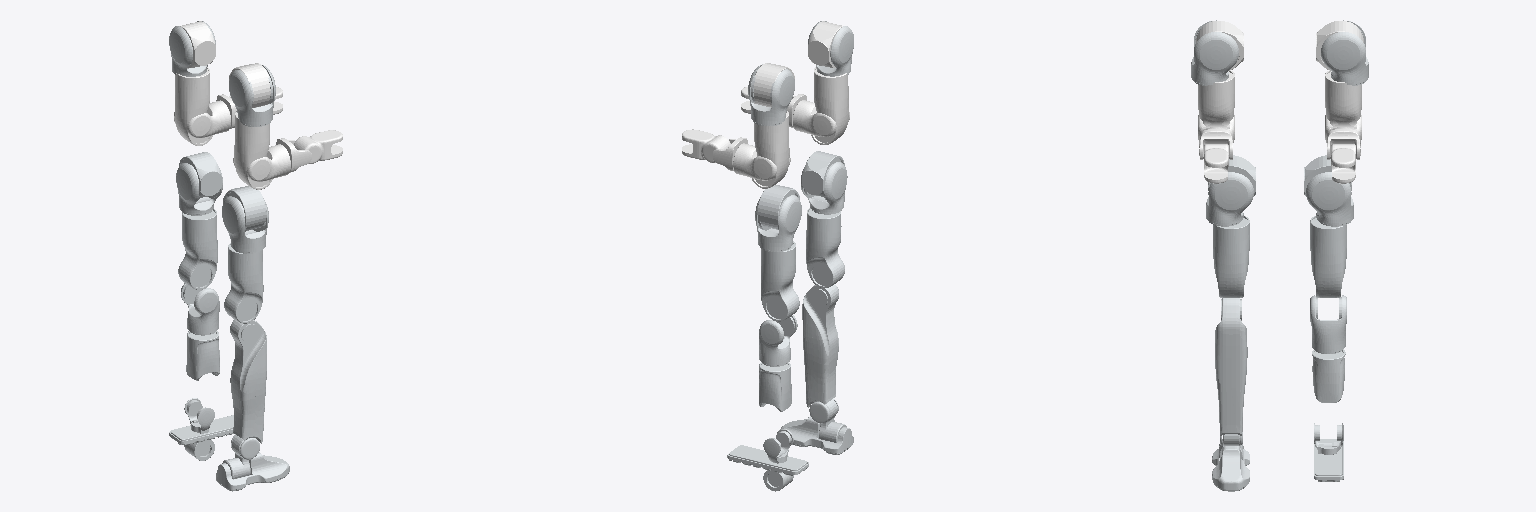
--- Facts derived from the render (not from the file) ---
Views: 3 orthographic renders of the robot side by side, from view 1: azimuth 30°, elevation 25°; view 2: azimuth 150°, elevation 25°; view 3: azimuth 270°, elevation 25°.
Robot: E1 — 29 links, 28 joints (13 revolute, 14 fixed, 1 floating); root link world; default pose: every joint at zero.
Links seen in each view (by area): view 1: right_knee_link, left_knee_link, left_hip_yaw_link, right_hip_yaw_link, left_shoulder_yaw_link, left_ankle_pitch_link, right_shoulder_yaw_link, right_shoulder_roll_link, right_hip_roll_link, right_ankle_roll_link, left_hip_roll_link, left_shoulder_roll_link (+9 smaller); view 2: right_knee_link, left_knee_link, right_hip_yaw_link, left_hip_yaw_link, left_ankle_pitch_link, right_shoulder_yaw_link, left_shoulder_yaw_link, left_shoulder_roll_link, left_hip_roll_link, right_ankle_roll_link, right_hip_roll_link, left_elbow_link (+8 smaller); view 3: right_knee_link, left_knee_link, left_hip_yaw_link, right_hip_yaw_link, left_shoulder_roll_link, right_shoulder_roll_link, left_hip_roll_link, right_hip_roll_link, left_shoulder_yaw_link, right_shoulder_yaw_link, right_ankle_roll_link, left_ankle_pitch_link (+6 smaller).
Boxes of the visible links, bbox=[...] form: right_knee_link: bbox=[230, 319, 266, 443]; left_knee_link: bbox=[181, 283, 219, 380]; left_hip_yaw_link: bbox=[178, 209, 217, 289]; right_hip_yaw_link: bbox=[224, 243, 263, 323]; left_shoulder_yaw_link: bbox=[175, 67, 212, 145]; left_ankle_pitch_link: bbox=[169, 398, 234, 445]; right_shoulder_yaw_link: bbox=[234, 111, 272, 189]; right_shoulder_roll_link: bbox=[229, 65, 275, 126]; right_hip_roll_link: bbox=[222, 196, 268, 253]; right_ankle_roll_link: bbox=[216, 452, 289, 491]; left_hip_roll_link: bbox=[176, 163, 222, 215]; left_shoulder_roll_link: bbox=[169, 21, 215, 76]; right_knee_link: bbox=[802, 284, 838, 407]; left_knee_link: bbox=[759, 315, 797, 411]; right_hip_yaw_link: bbox=[806, 208, 844, 287]; left_hip_yaw_link: bbox=[761, 241, 799, 321]; left_ankle_pitch_link: bbox=[727, 429, 808, 475]; right_shoulder_yaw_link: bbox=[811, 67, 848, 144]; left_shoulder_yaw_link: bbox=[752, 111, 789, 188]; left_shoulder_roll_link: bbox=[748, 64, 794, 125]; left_hip_roll_link: bbox=[755, 195, 801, 251]; right_ankle_roll_link: bbox=[781, 416, 853, 454]; right_hip_roll_link: bbox=[801, 162, 847, 214]; left_elbow_link: bbox=[733, 143, 790, 180]; right_knee_link: bbox=[1215, 298, 1247, 435]; left_knee_link: bbox=[1310, 295, 1346, 402]; left_hip_yaw_link: bbox=[1310, 216, 1346, 297]; right_hip_yaw_link: bbox=[1213, 216, 1249, 297]; left_shoulder_roll_link: bbox=[1321, 20, 1368, 85]; right_shoulder_roll_link: bbox=[1191, 20, 1238, 85]; left_hip_roll_link: bbox=[1306, 172, 1353, 226]; right_hip_roll_link: bbox=[1206, 172, 1253, 226]; left_shoulder_yaw_link: bbox=[1325, 70, 1361, 127]; right_shoulder_yaw_link: bbox=[1198, 70, 1234, 127]; right_ankle_roll_link: bbox=[1212, 446, 1249, 491]; left_ankle_pitch_link: bbox=[1314, 423, 1343, 481].
Size in the robot's own frame: 0.3315 by 0.418 by 1.18 metres.
Meshes: 25 distinct files referenced, 24 mesh visuals loaded (24 binary STL); not drawn: 1 (reference not matched to a file when rendering).

URDF robot description (E1):
<robot name="E1">
  <mujoco>
    <compiler meshdir="./meshes" discardvisual="false" />
  </mujoco>

  <link name="world"></link>
  <joint name="pelvis_link" type="floating">
    <parent link="world" />
    <child link="pelvis_link" />
  </joint>

  <link name="pelvis_link">
    <inertial>
      <origin xyz="0.00134971 0 0.06940332" rpy="0 0 0" />
      <mass value="2.73" />
      <inertia ixx="0.00792451" ixy="-0.00000201" ixz="0.00022435" iyy="0.00661284" iyz="0.00000816" izz="0.00695262" />
    </inertial>
    <visual>
      <origin xyz="0 0 0" rpy="0 0 0" />
      <geometry>
        <mesh filename="meshes/pelvis_link.STL" />
      </geometry>
      <material name="">
        <color rgba="0.752941176470588 0.752941176470588 0.752941176470588 1" />
      </material>
    </visual>
    <collision>
      <origin xyz="0 0 0" rpy="0 0 0" />
      <geometry>
        <mesh filename="meshes/pelvis_link.STL" />
      </geometry>
    </collision>
  </link>
  <link name="left_hip_pitch_link">
    <inertial>
      <origin xyz="0.01929538 0.03084445 -0.00578934" rpy="0 0 0" />
      <mass value="0.145" />
      <inertia ixx="0.00011256" ixy="0.00002214" ixz="-0.00000468" iyy="0.00005128" iyz="-0.00002099" izz="0.00010702" />
    </inertial>
    <visual>
      <origin xyz="0 0 0" rpy="0 0 0" />
      <geometry>
        <mesh filename="meshes/left_hip_pitch_link.STL" />
      </geometry>
      <material name="">
        <color rgba="0.898039215686275 0.917647058823529 0.929411764705882 1" />
      </material>
    </visual>
    <!-- <collision>
      <origin xyz="0 0 0" rpy="0 0 0" />
      <geometry>
        <mesh filename="meshes/left_hip_pitch_link.STL" />
      </geometry>
    </collision> -->
  </link>
  <joint name="left_hip_pitch_joint" type="revolute">
    <origin xyz="0 0.057 0.065" rpy="0 0 0" />
    <parent link="pelvis_link" />
    <child link="left_hip_pitch_link" />
    <axis xyz="0 1 0" />
    <limit lower="-2.7053" upper="2.7053" effort="60" velocity="20.42" />
  </joint>
  <link name="left_hip_roll_link">
    <inertial>
      <origin xyz="-0.00147244 0.00041537 -0.03721449" rpy="0 0 0" />
      <mass value="1.39" />
      <inertia ixx="0.002567" ixy="0.00001559" ixz="-0.00006696" iyy="0.00235625" iyz="0.00000301" izz="0.00145182" />
    </inertial>
    <visual>
      <origin xyz="0 0 0" rpy="0 0 0" />
      <geometry>
        <mesh filename="meshes/left_hip_roll_link.STL" />
      </geometry>
      <material name="">
        <color rgba="0.898039215686275 0.917647058823529 0.929411764705882 1" />
      </material>
    </visual>
<!--    <collision>-->
<!--      <origin xyz="0 0 0" rpy="0 0 0" />-->
<!--      <geometry>-->
<!--        <mesh filename="meshes/left_hip_roll_link.STL" />-->
<!--      </geometry>-->
<!--    </collision>-->
  </link>
  <joint name="left_hip_roll_joint" type="revolute">
    <origin xyz="0 0.058 -0.015" rpy="0 0 0" />
    <parent link="left_hip_pitch_link" />
    <child link="left_hip_roll_link" />
    <axis xyz="1 0 0" />
    <limit lower="-0.5236" upper="3.1416" effort="36" velocity="50.265" />
  </joint>
  <link name="left_hip_yaw_link">
    <inertial>
      <origin xyz="0.00070152 0.00025365 -0.12614663" rpy="0 0 0" />
      <mass value="2.39" />
      <inertia ixx="0.01611989" ixy="-0.00000019" ixz="-0.00028259" iyy="0.01646544" iyz="0.00024296" izz="0.00278263" />
    </inertial>
    <visual>
      <origin xyz="0 0 0" rpy="0 0 0" />
      <geometry>
        <mesh filename="meshes/left_hip_yaw_link.STL" />
      </geometry>
      <material name="">
        <color rgba="0.898039215686275 0.917647058823529 0.929411764705882 1" />
      </material>
    </visual>
    <collision>
      <origin xyz="0 0 0" rpy="0 0 0" />
      <geometry>
        <mesh filename="meshes/left_hip_yaw_link.STL" />
      </geometry>
    </collision>
  </link>
  <joint name="left_hip_yaw_joint" type="revolute">
    <origin xyz="0 0 -0.092" rpy="0 0 0" />
    <parent link="left_hip_roll_link" />
    <child link="left_hip_yaw_link" />
    <axis xyz="0 0 1" />
    <limit lower="-2.0944" upper="2.0944" effort="36" velocity="50.265" />
  </joint>
  <link name="left_knee_link">
    <inertial>
      <origin xyz="0.00414084 -0.00040825 -0.13326938" rpy="0 0 0" />
      <mass value="0.785" />
      <inertia ixx="0.01156593" ixy="0.00000094" ixz="-0.00002291" iyy="0.01158947" iyz="0.00008706" izz="0.00032382" />
    </inertial>
    <visual>
      <origin xyz="0 0 0" rpy="0 0 0" />
      <geometry>
        <mesh filename="meshes/left_knee_link.STL" />
      </geometry>
      <material name="">
        <color rgba="0.898039215686275 0.917647058823529 0.929411764705882 1" />
      </material>
    </visual>
<!--    <collision>-->
<!--      <origin xyz="0 0 0" rpy="0 0 0" />-->
<!--      <geometry>-->
<!--        <mesh filename="meshes/left_knee_link.STL" />-->
<!--      </geometry>-->
<!--    </collision>-->
  </link>
  <joint name="left_knee_joint" type="revolute">
    <origin xyz="0 0 -0.228" rpy="0 0 0" />
    <parent link="left_hip_yaw_link" />
    <child link="left_knee_link" />
    <axis xyz="0 1 0" />
    <limit lower="0" upper="2.2689" effort="36" velocity="50.265" />
  </joint>
  <link name="left_ankle_pitch_link">
    <inertial>
      <origin xyz="-0.01426716 -0.00101925 -0.04298429" rpy="0 0 0" />
      <mass value="0.597" />
      <inertia ixx="0.00065314" ixy="-0.00001099" ixz="0.00013946" iyy="0.00072568" iyz="-0.00003869" izz="0.00044755" />
    </inertial>
    <visual>
      <origin xyz="0 0 0" rpy="0 0 0" />
      <geometry>
        <mesh filename="meshes/left_ankle_pitch_link.STL" />
      </geometry>
      <material name="">
        <color rgba="0.898039215686275 0.917647058823529 0.929411764705882 1" />
      </material>
    </visual>
    <collision>
      <origin xyz="0 0 0" rpy="0 0 0" />
      <geometry>
        <mesh filename="meshes/left_ankle_pitch_link.STL" />
      </geometry>
    </collision>
  </link>
  <joint name="left_ankle_pitch_joint" type="revolute">
    <origin xyz="0 0 -0.32" rpy="0 0 0" />
    <parent link="left_knee_link" />
    <child link="left_ankle_pitch_link" />
    <axis xyz="0 1 0" />
    <limit lower="-0.5236" upper="0.5236" effort="36" velocity="50.265" />
  </joint>
  <link name="left_ankle_roll_link">
    <inertial>
      <origin xyz="0.01152056 0 -0.02947055" rpy="0 0 0" />
      <mass value="0.294" />
      <inertia ixx="0.0001508" ixy="0" ixz="-0.00002398" iyy="0.00074194" iyz="0" izz="0.00079391" />
    </inertial>
    <visual>
      <origin xyz="0 0 0" rpy="0 0 0" />
      <geometry>
        <mesh filename="meshes/left_ankle_roll_link.STL" />
      </geometry>
      <material name="">
        <color rgba="0.898039215686275 0.917647058823529 0.929411764705882 1" />
      </material>
    </visual>
    <collision>
      <origin xyz="0 0 0" rpy="0 0 0" />
      <geometry>
        <mesh filename="meshes/left_ankle_roll_link.STL" />
      </geometry>
    </collision>
  </link>
  <joint name="left_ankle_roll_joint" type="revolute">
    <origin xyz="0 0 -0.06" rpy="0 0 0" />
    <parent link="left_ankle_pitch_link" />
    <child link="left_ankle_roll_link" />
    <axis xyz="1 0 0" />
    <limit lower="-1.5708" upper="1.5708" effort="14" velocity="32.987" />
  </joint>
  <link name="right_hip_pitch_link">
    <inertial>
      <origin xyz="0.01929538 -0.03084445 -0.00578934" rpy="0 0 0" />
      <mass value="0.145" />
      <inertia ixx="0.00011256" ixy="-0.00002214" ixz="-0.00000468" iyy="0.00005128" iyz="0.00002099" izz="0.00010702" />
    </inertial>
    <visual>
      <origin xyz="0 0 0" rpy="0 0 0" />
      <geometry>
        <mesh filename="meshes/right_hip_pitch_link.STL" />
      </geometry>
      <material name="">
        <color rgba="0.898039215686275 0.917647058823529 0.929411764705882 1" />
      </material>
    </visual>
    <!-- <collision>
      <origin xyz="0 0 0" rpy="0 0 0" />
      <geometry>
        <mesh filename="meshes/right_hip_pitch_link.STL" />
      </geometry>
    </collision> -->
  </link>
  <joint name="right_hip_pitch_joint" type="revolute">
    <origin xyz="0 -0.057 0.065" rpy="0 0 0" />
    <parent link="pelvis_link" />
    <child link="right_hip_pitch_link" />
    <axis xyz="0 1 0" />
    <limit lower="-2.7053" upper="2.7053" effort="60" velocity="20.42" />
  </joint>
  <link name="right_hip_roll_link">
    <inertial>
      <origin xyz="-0.00147237 -0.00041532 -0.03721455" rpy="0 0 0" />
      <mass value="1.39" />
      <inertia ixx="0.00256699" ixy="-0.00001559" ixz="-0.00006696" iyy="0.00235625" iyz="-0.00000302" izz="0.00145182" />
    </inertial>
    <visual>
      <origin xyz="0 0 0" rpy="0 0 0" />
      <geometry>
        <mesh filename="meshes/right_hip_roll_link.STL" />
      </geometry>
      <material name="">
        <color rgba="0.898039215686275 0.917647058823529 0.929411764705882 1" />
      </material>
    </visual>
<!--    <collision>-->
<!--      <origin xyz="0 0 0" rpy="0 0 0" />-->
<!--      <geometry>-->
<!--        <mesh filename="meshes/right_hip_roll_link.STL" />-->
<!--      </geometry>-->
<!--    </collision>-->
  </link>
  <joint name="right_hip_roll_joint" type="revolute">
    <origin xyz="0 -0.058 -0.015" rpy="0 0 0" />
    <parent link="right_hip_pitch_link" />
    <child link="right_hip_roll_link" />
    <axis xyz="1 0 0" />
    <limit lower="-2.618" upper="0.1745" effort="36" velocity="50.265" />
  </joint>
  <link name="right_hip_yaw_link">
    <inertial>
      <origin xyz="0.00070152 -0.00025365 -0.12614688" rpy="0 0 0" />
      <mass value="2.39" />
      <inertia ixx="0.01611990" ixy="0.00000018" ixz="-0.00028259" iyy="0.01646544" iyz="-0.00024296" izz="0.00278262" />
    </inertial>
    <visual>
      <origin xyz="0 0 0" rpy="0 0 0" />
      <geometry>
        <mesh filename="meshes/right_hip_yaw_link.STL" />
      </geometry>
      <material name="">
        <color rgba="0.898039215686275 0.917647058823529 0.929411764705882 1" />
      </material>
    </visual>
    <collision>
      <origin xyz="0 0 0" rpy="0 0 0" />
      <geometry>
        <mesh filename="meshes/right_hip_yaw_link.STL" />
      </geometry>
    </collision>
  </link>
  <joint name="right_hip_yaw_joint" type="revolute">
    <origin xyz="0 0 -0.092" rpy="0 0 0" />
    <parent link="right_hip_roll_link" />
    <child link="right_hip_yaw_link" />
    <axis xyz="0 0 1" />
    <limit lower="-2.0944" upper="2.0944" effort="36" velocity="50.265" />
  </joint>
  <link name="right_knee_link">
    <inertial>
      <origin xyz="0.00414085 0.00040825 -0.13326949" rpy="0 0 0" />
      <mass value="0.785" />
      <inertia ixx="0.01156594" ixy="-0.00000094" ixz="-0.00002291" iyy="0.01158948" iyz="-0.00008706" izz="0.00032382" />
    </inertial>
    <visual>
      <origin xyz="0 0 0" rpy="0 0 0" />
      <geometry>
        <mesh filename="meshes/right_knee_link.STL" />
      </geometry>
      <material name="">
        <color rgba="0.898039215686275 0.917647058823529 0.929411764705882 1" />
      </material>
    </visual>
<!--    <collision>-->
<!--      <origin xyz="0 0 0" rpy="0 0 0" />-->
<!--      <geometry>-->
<!--        <mesh filename="meshes/right_knee_link.STL" />-->
<!--      </geometry>-->
<!--    </collision>-->
  </link>
  <joint name="right_knee_joint" type="revolute">
    <origin xyz="0 0 -0.228" rpy="0 0 0" />
    <parent link="right_hip_yaw_link" />
    <child link="right_knee_link" />
    <axis xyz="0 1 0" />
    <limit lower="0" upper="2.2689" effort="36" velocity="50.265" />
  </joint>
  <link name="right_ankle_pitch_link">
    <inertial>
      <origin xyz="-0.01426715 0.00101913 -0.0429843" rpy="0 0 0" />
      <mass value="0.597" />
      <inertia ixx="0.00065314" ixy="0.00001099" ixz="0.00013946" iyy="0.00072569" iyz="0.00003869" izz="0.00044755" />
    </inertial>
    <visual>
      <origin xyz="0 0 0" rpy="0 0 0" />
      <geometry>
        <mesh filename="meshes/right_ankle_pitch_link.STL" />
      </geometry>
      <material name="">
        <color rgba="0.898039215686275 0.917647058823529 0.929411764705882 1" />
      </material>
    </visual>
    <collision>
      <origin xyz="0 0 0" rpy="0 0 0" />
      <geometry>
        <mesh filename="meshes/right_ankle_pitch_link.STL" />
      </geometry>
    </collision>
  </link>
  <joint name="right_ankle_pitch_joint" type="revolute">
    <origin xyz="0 0 -0.32" rpy="0 0 0" />
    <parent link="right_knee_link" />
    <child link="right_ankle_pitch_link" />
    <axis xyz="0 1 0" />
    <limit lower="-0.5236" upper="0.5236" effort="36" velocity="10.47" />
  </joint>
  <link name="right_ankle_roll_link">
    <inertial>
      <origin xyz="0.01152056 0 -0.02947055" rpy="0 0 0" />
      <mass value="0.294" />
      <inertia ixx="0.0001508" ixy="0" ixz="-0.00002398" iyy="0.00074194" iyz="0" izz="0.00079391" />
    </inertial>
    <visual>
      <origin xyz="0 0 0" rpy="0 0 0" />
      <geometry>
        <mesh filename="meshes/right_ankle_roll_link.STL" />
      </geometry>
      <material name="">
        <color rgba="0.898039215686275 0.917647058823529 0.929411764705882 1" />
      </material>
    </visual>
    <collision>
      <origin xyz="0 0 0" rpy="0 0 0" />
      <geometry>
        <mesh filename="meshes/right_ankle_roll_link.STL" />
      </geometry>
    </collision>
  </link>
  <joint name="right_ankle_roll_joint" type="revolute">
    <origin xyz="0 0 -0.06" rpy="0 0 0" />
    <parent link="right_ankle_pitch_link" />
    <child link="right_ankle_roll_link" />
    <axis xyz="1 0 0" />
    <limit lower="-1.5708" upper="1.5708" effort="14" velocity="27.28" />
  </joint>
  <!-- <link name="waist_yaw_link">
    <inertial>
      <origin xyz="0.00002019 0.00005783 0.02376167" rpy="0 0 0" />
      <mass value="0.8" />
      <inertia ixx="0.00077312" ixy="-0.00000055" ixz="-0.00000523" iyy="0.00080756" iyz="0.00000096" izz="0.00106847" />
    </inertial>
    <visual>
      <origin xyz="0 0 0" rpy="0 0 0" />
      <geometry>
        <mesh filename="meshes/waist_yaw_link.STL" />
      </geometry>
      <material name="">
        <color rgba="0.752941176470588 0.752941176470588 0.752941176470588 1" />
      </material>
    </visual>
    <collision>
      <origin xyz="0 0 0" rpy="0 0 0" />
      <geometry>
        <mesh filename="meshes/waist_yaw_link.STL" />
      </geometry>
    </collision>
  </link> -->
  <!-- <joint name="waist_yaw_joint" type="revolute">
    <origin xyz="0 0 0.135" rpy="0 0 0" />
    <parent link="pelvis_link" />
    <child link="waist_yaw_link" />
    <axis xyz="0 0 1" />
    <limit lower="-1.5708" upper="1.5708" effort="60" velocity="50.265" />
  </joint> -->
  <link name="torso_link">
    <inertial>
      <origin xyz="-0.0002482 -0.00192616 0.2017273" rpy="0 0 0" />
      <mass value="6.9" />
      <inertia ixx="0.05533478" ixy="0.00020066" ixz="0.00006865" iyy="0.04385891" iyz="0.00036014" izz="0.0199517" />
    </inertial>
    <!-- <visual>
      <origin xyz="0 0 0" rpy="0 0 0" />
      <geometry>
        <mesh filename="meshes/torso_link.STL" />
      </geometry>
      <material name="">
        <color rgba="0.752941176470588 0.752941176470588 0.752941176470588 1" />
      </material>
    </visual>
    <collision>
      <origin xyz="0 0 0" rpy="0 0 0" />
      <geometry>
        <mesh filename="meshes/torso_link.STL" />
      </geometry>
    </collision> -->
    <collision>
      <origin xyz="0 0 0.18" rpy="0 0 0"/>
      <geometry>
          <box size="0.11 0.13 0.3"/>
      </geometry>
    </collision>
  </link>
  <!-- <joint name="torso_joint" type="fixed">
    <origin xyz="0 0 0" rpy="0 0 0" />
    <parent link="waist_yaw_link" />
    <child link="torso_link" />
    <axis xyz="0 0 0" />
  </joint> -->
  <joint name="waist_yaw_joint" type="revolute">
    <origin xyz="0 0 0.135" rpy="0 0 0" />
    <parent link="pelvis_link" />
    <child link="torso_link" />
    <axis xyz="0 0 1" />
    <limit lower="-1.5708" upper="1.5708" effort="60" velocity="20.42" />
  </joint>
  <link name="left_shoulder_pitch_link">
    <inertial>
      <origin xyz="-0.0029314 0.04236878 0.00000234" rpy="0 0 0" />
      <mass value="0.86" />
      <inertia ixx="0.00102909" ixy="-0.00002678" ixz="-0.00000002" iyy="0.00061621" iyz="-0.00000002" izz="0.00086617" />
    </inertial>
    <visual>
      <origin xyz="0 0 0" rpy="0 0 0" />
      <geometry>
        <mesh filename="meshes/left_shoulder_pitch_link.STL" />
      </geometry>
      <material name="">
        <color rgba="1 1 1 1" />
      </material>
    </visual>
    <collision>
      <origin xyz="0 0 0" rpy="0 0 0" />
      <geometry>
        <mesh filename="meshes/left_shoulder_pitch_link.STL" />
      </geometry>
    </collision>
  </link>
  <joint name="left_shoulder_pitch_joint" type="fixed">
    <origin xyz="0 0.098 0.28" rpy="0 0 0" />
    <parent link="torso_link" />
    <child link="left_shoulder_pitch_link" />
    <axis xyz="0 1 0" />
    <limit lower="0" upper="0" effort="36" velocity="10.47" />
  </joint>
  <link name="left_shoulder_roll_link">
    <inertial>
      <origin xyz="0.01778196 -0.00016662 -0.02897185" rpy="0 0 0" />
      <mass value="0.1" />
      <inertia ixx="0.00006297" ixy="0.00000007" ixz="0.0000124" iyy="0.00006244" iyz="0.0000002" izz="0.00002735" />
    </inertial>
    <visual>
      <origin xyz="0 0 0" rpy="0 0 0" />
      <geometry>
        <mesh filename="meshes/left_shoulder_roll_link.STL" />
      </geometry>
      <material name="">
        <color rgba="0.898039215686275 0.917647058823529 0.929411764705882 1" />
      </material>
    </visual>
    <collision>
      <origin xyz="0 0 0" rpy="0 0 0" />
      <geometry>
        <mesh filename="meshes/left_shoulder_roll_link.STL" />
      </geometry>
    </collision>
  </link>
  <joint name="left_shoulder_roll_joint" type="fixed">
    <origin xyz="0 0.052 0" rpy="0 0 0" />
    <parent link="left_shoulder_pitch_link" />
    <child link="left_shoulder_roll_link" />
    <axis xyz="1 0 0" />
    <limit lower="0" upper="0" effort="36" velocity="10.47" />
  </joint>
  <link name="left_shoulder_yaw_link">
    <inertial>
      <origin xyz="-0.00317011 -0.0005976 -0.07021454" rpy="0 0 0" />
      <mass value="1.55" />
      <inertia ixx="0.00649411" ixy="0.00005943" ixz="0.00025794" iyy="0.00640237" iyz="-0.00001492" izz="0.0014487" />
    </inertial>
    <visual>
      <origin xyz="0 0 0" rpy="0 0 0" />
      <geometry>
        <mesh filename="meshes/left_shoulder_yaw_link.STL" />
      </geometry>
      <material name="">
        <color rgba="1 1 1 1" />
      </material>
    </visual>
    <collision>
      <origin xyz="0 0 0" rpy="0 0 0" />
      <geometry>
        <mesh filename="meshes/left_shoulder_yaw_link.STL" />
      </geometry>
    </collision>
  </link>
  <joint name="left_shoulder_yaw_joint" type="fixed">
    <origin xyz="0 0 -0.077" rpy="0 0 0" />
    <parent link="left_shoulder_roll_link" />
    <child link="left_shoulder_yaw_link" />
    <axis xyz="0 0 1" />
    <limit lower="0" upper="0" effort="14" velocity="27.28" />
  </joint>
  <link name="left_elbow_link">
    <inertial>
      <origin xyz="0.08296731 -0.00030352 -0.00120015" rpy="0 0 0" />
      <mass value="0.51" />
      <inertia ixx="0.00044171" ixy="0.00001498" ixz="0.0000316" iyy="0.0006862" iyz="-0.00000023" izz="0.00080540" />
    </inertial>
    <visual>
      <origin xyz="0 0 0" rpy="0 0 0" />
      <geometry>
        <mesh filename="meshes/left_elbow_link.STL" />
      </geometry>
      <material name="">
        <color rgba="1 1 1 1" />
      </material>
    </visual>
    <collision>
      <origin xyz="0 0 0" rpy="0 0 0" />
      <geometry>
        <mesh filename="meshes/left_elbow_link.STL" />
      </geometry>
    </collision>
  </link>
  <joint name="left_elbow_joint" type="fixed">
    <origin xyz="0 0 -0.133" rpy="0 0 0" />
    <parent link="left_shoulder_yaw_link" />
    <child link="left_elbow_link" />
    <axis xyz="0 1 0" />
    <limit lower="0" upper="0" effort="36" velocity="10.47" />
  </joint>
  <link name="left_wrist_roll_link">
    <inertial>
      <origin xyz="0.05840973 -0.00030711 -0.00006564" rpy="0 0 0" />
      <mass value="0.38" />
      <inertia ixx="0.00024702" ixy="0.00000162" ixz="-0.00000048" iyy="0.00027052" iyz="-0.00000287" izz="0.00035336" />
    </inertial>
    <visual>
      <origin xyz="0 0 0" rpy="0 0 0" />
      <geometry>
        <mesh filename="meshes/left_wrist_roll_link.STL" />
      </geometry>
      <material name="">
        <color rgba="1 1 1 1" />
      </material>
    </visual>
    <collision>
      <origin xyz="0 0 0" rpy="0 0 0" />
      <geometry>
        <mesh filename="meshes/left_wrist_roll_link.STL" />
      </geometry>
    </collision>
  </link>
  <joint name="left_wrist_roll_joint" type="fixed">
    <origin xyz="0.1 0 0" rpy="0 0 0" />
    <parent link="left_elbow_link" />
    <child link="left_wrist_roll_link" />
    <axis xyz="1 0 0" />
    <limit lower="0" upper="0" effort="14" velocity="27.28" />
  </joint>
  <link name="left_wrist_pitch_link">
    <inertial>
      <origin xyz="0.06200956 -0.00270472 0.00081678" rpy="0 0 0" />
      <mass value="0.35" />
      <inertia ixx="0.0001926" ixy="0.00001188" ixz="-0.00002839" iyy="0.00022487" iyz="-0.00000555" izz="0.00022890" />
    </inertial>
    <visual>
      <origin xyz="0 0 0" rpy="0 0 0" />
      <geometry>
        <mesh filename="meshes/left_wrist_pitch_link.STL" />
      </geometry>
      <material name="">
        <color rgba="1 1 1 1" />
      </material>
    </visual>
    <collision>
      <origin xyz="0 0 0" rpy="0 0 0" />
      <geometry>
        <mesh filename="meshes/left_wrist_pitch_link.STL" />
      </geometry>
    </collision>
  </link>
  <joint name="left_wrist_pitch_joint" type="fixed">
    <origin xyz="0.06 0 0" rpy="0 0 0" />
    <parent link="left_wrist_roll_link" />
    <child link="left_wrist_pitch_link" />
    <axis xyz="0 1 0" />
    <limit lower="0" upper="0" effort="14" velocity="27.28" />
  </joint>
  <link name="left_wrist_yaw_link">
    <collision>
      <origin xyz="0.06 0 0" rpy="0 1.5708 0"/>
      <geometry>
          <cylinder radius="0.026" length="0.02"/>
      </geometry>
    </collision>
  </link>
  <joint name="left_wrist_yaw_joint" type="fixed">
    <origin xyz="0.06 0 0" rpy="0 0 0" />
    <parent link="left_wrist_pitch_link" />
    <child link="left_wrist_yaw_link" />
    <axis xyz="0 0 1" />
    <limit lower="0" upper="0" effort="14" velocity="27.28" />
  </joint>
  <link name="right_shoulder_pitch_link">
    <inertial>
      <origin xyz="-0.0029314 -0.04236878 -0.00000234" rpy="0 0 0" />
      <mass value="0.86" />
      <inertia ixx="0.00102909" ixy="0.00002678" ixz="0.00000002" iyy="0.00061621" iyz="-0.00000002" izz="0.00086617" />
    </inertial>
    <visual>
      <origin xyz="0 0 0" rpy="0 0 0" />
      <geometry>
        <mesh filename="meshes/right_shoulder_pitch_link.STL" />
      </geometry>
      <material name="">
        <color rgba="1 1 1 1" />
      </material>
    </visual>
    <collision>
      <origin xyz="0 0 0" rpy="0 0 0" />
      <geometry>
        <mesh filename="meshes/right_shoulder_pitch_link.STL" />
      </geometry>
    </collision>
  </link>
  <joint name="right_shoulder_pitch_joint" type="fixed">
    <origin xyz="0 -0.098 0.28" rpy="0 0 0" />
    <parent link="torso_link" />
    <child link="right_shoulder_pitch_link" />
    <axis xyz="0 1 0" />
    <limit lower="0" upper="0" effort="36" velocity="10.47" />
  </joint>
  <link name="right_shoulder_roll_link">
    <inertial>
      <origin xyz="0.01778196 0 -0.02897233" rpy="0 0 0" />
      <mass value="0.1" />
      <inertia ixx="0.00006297" ixy="0" ixz="0.00001240" iyy="0.00006245" iyz="0" izz="0.00002735" />
    </inertial>
    <visual>
      <origin xyz="0 0 0" rpy="0 0 0" />
      <geometry>
        <mesh filename="meshes/right_shoulder_roll_link.STL" />
      </geometry>
      <material name="">
        <color rgba="0.898039215686275 0.917647058823529 0.929411764705882 1" />
      </material>
    </visual>
    <collision>
      <origin xyz="0 0 0" rpy="0 0 0" />
      <geometry>
        <mesh filename="meshes/right_shoulder_roll_link.STL" />
      </geometry>
    </collision>
  </link>
  <joint name="right_shoulder_roll_joint" type="fixed">
    <origin xyz="0 -0.052 0" rpy="0 0 0" />
    <parent link="right_shoulder_pitch_link" />
    <child link="right_shoulder_roll_link" />
    <axis xyz="1 0 0" />
    <limit lower="0" upper="0" effort="36" velocity="10.47" />
  </joint>
  <link name="right_shoulder_yaw_link">
    <inertial>
      <origin xyz="-0.00317012 0.00059760 -0.07021462" rpy="0 0 0" />
      <mass value="1.55" />
      <inertia ixx="0.00649412" ixy="-0.00005943" ixz="0.00025794" iyy="0.00640237" iyz="0.00001492" izz="0.00144870" />
    </inertial>
    <visual>
      <origin xyz="0 0 0" rpy="0 0 0" />
      <geometry>
        <mesh filename="meshes/right_shoulder_yaw_link.STL" />
      </geometry>
      <material name="">
        <color rgba="1 1 1 1" />
      </material>
    </visual>
    <collision>
      <origin xyz="0 0 0" rpy="0 0 0" />
      <geometry>
        <mesh filename="meshes/right_shoulder_yaw_link.STL" />
      </geometry>
    </collision>
  </link>
  <joint name="right_shoulder_yaw_joint" type="fixed">
    <origin xyz="0 0 -0.077" rpy="0 0 0" />
    <parent link="right_shoulder_roll_link" />
    <child link="right_shoulder_yaw_link" />
    <axis xyz="0 0 1" />
    <limit lower="0" upper="0" effort="14" velocity="27.28" />
  </joint>
  <link name="right_elbow_link">
    <inertial>
      <origin xyz="0.08296729 0.00030351 -0.00120015" rpy="0 0 0" />
      <mass value="0.51" />
      <inertia ixx="0.00044171" ixy="-0.00001498" ixz="0.0000316" iyy="0.0006862" iyz="0.00000023" izz="0.0008054" />
    </inertial>
    <visual>
      <origin xyz="0 0 0" rpy="0 0 0" />
      <geometry>
        <mesh filename="meshes/right_elbow_link.STL" />
      </geometry>
      <material name="">
        <color rgba="1 1 1 1" />
      </material>
    </visual>
    <collision>
      <origin xyz="0 0 0" rpy="0 0 0" />
      <geometry>
        <mesh filename="meshes/right_elbow_link.STL" />
      </geometry>
    </collision>
  </link>
  <joint name="right_elbow_joint" type="fixed">
    <origin xyz="0 0 -0.133" rpy="0 0 0" />
    <parent link="right_shoulder_yaw_link" />
    <child link="right_elbow_link" />
    <axis xyz="0 1 0" />
    <limit lower="0" upper="0" effort="36" velocity="10.47" />
  </joint>
  <link name="right_wrist_roll_link">
    <inertial>
      <origin xyz="0.05840973 0.00030712 -0.00006564" rpy="0 0 0" />
      <mass value="0.38" />
      <inertia ixx="0.00024703" ixy="-0.00000162" ixz="-0.00000048" iyy="0.00027052" iyz="0.00000287" izz="0.00035335" />
    </inertial>
    <visual>
      <origin xyz="0 0 0" rpy="0 0 0" />
      <geometry>
        <mesh filename="meshes/right_wrist_roll_link.STL" />
      </geometry>
      <material name="">
        <color rgba="1 1 1 1" />
      </material>
    </visual>
    <collision>
      <origin xyz="0 0 0" rpy="0 0 0" />
      <geometry>
        <mesh filename="meshes/right_wrist_roll_link.STL" />
      </geometry>
    </collision>
  </link>
  <joint name="right_wrist_roll_joint" type="fixed">
    <origin xyz="0.1 0 0" rpy="0 0 0" />
    <parent link="right_elbow_link" />
    <child link="right_wrist_roll_link" />
    <axis xyz="1 0 0" />
    <limit lower="0" upper="0" effort="14" velocity="27.28" />
  </joint>
  <link name="right_wrist_pitch_link">
    <inertial>
      <origin xyz="0.06200959 0.00270479 0.00081679" rpy="0 0 0" />
      <mass value="0.35" />
      <inertia ixx="0.00019260" ixy="-0.00001188" ixz="-0.00002839" iyy="0.00022487" iyz="0.00000555" izz="0.00022890" />
    </inertial>
    <visual>
      <origin xyz="0 0 0" rpy="0 0 0" />
      <geometry>
        <mesh filename="meshes/right_wrist_pitch_link.STL" />
      </geometry>
      <material name="">
        <color rgba="1 1 1 1" />
      </material>
    </visual>
    <collision>
      <origin xyz="0 0 0" rpy="0 0 0" />
      <geometry>
        <mesh filename="meshes/right_wrist_pitch_link.STL" />
      </geometry>
    </collision>
  </link>
  <joint name="right_wrist_pitch_joint" type="fixed">
    <origin xyz="0.06 0 0" rpy="0 0 0" />
    <parent link="right_wrist_roll_link" />
    <child link="right_wrist_pitch_link" />
    <axis xyz="0 1 0" />
    <limit lower="0" upper="0" effort="14" velocity="27.28" />
  </joint>
  <link name="right_wrist_yaw_link">
    <collision>
      <origin xyz="0.05 0 0" rpy="0 1.5708 0"/>
      <geometry>
          <cylinder radius="0.026" length="0.02"/>
      </geometry>
    </collision>
  </link>
  <joint name="right_wrist_yaw_joint" type="fixed">
    <origin xyz="0.07 0 0" rpy="0 0 0" />
    <parent link="right_wrist_pitch_link" />
    <child link="right_wrist_yaw_link" />
    <axis xyz="0 0 1" />
    <limit lower="0" upper="0" effort="14" velocity="27.28" />
  </joint>
</robot>
